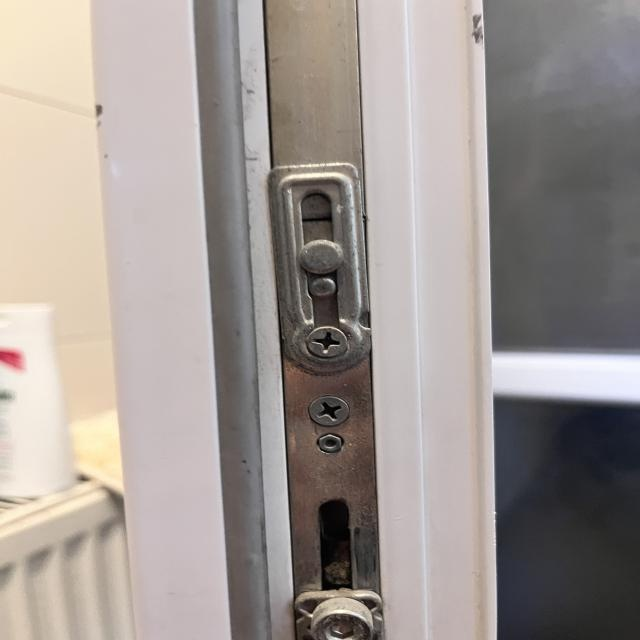allen: (318, 435, 342, 453)
phillips: (306, 326, 348, 358), (307, 395, 350, 426)
